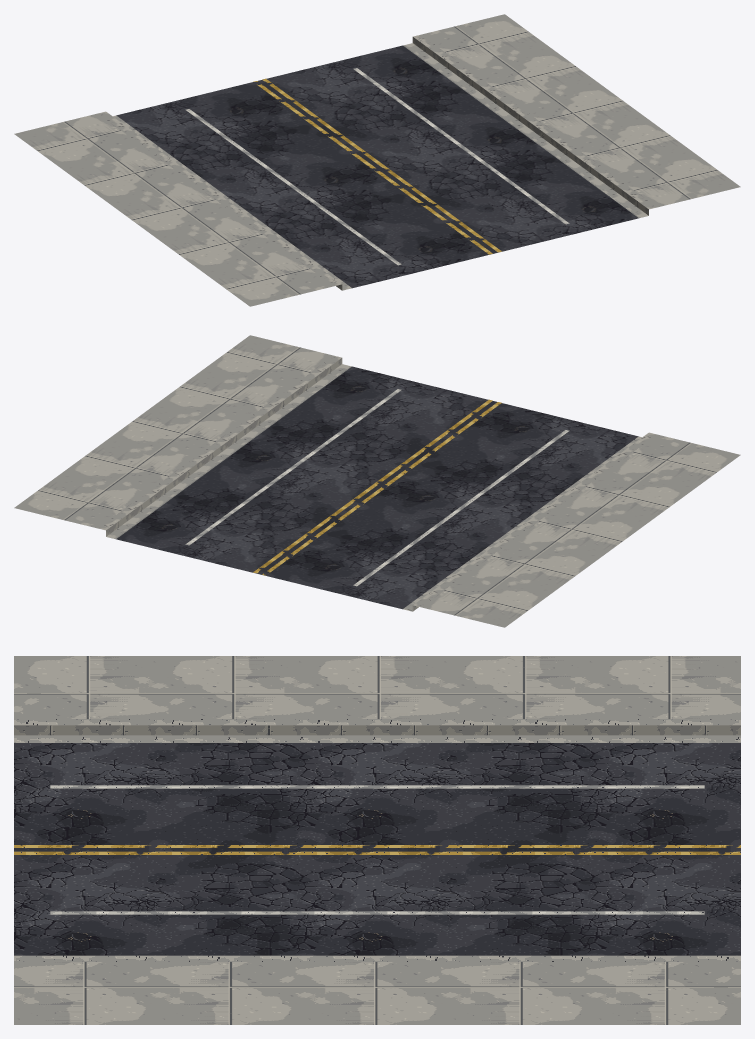
The model's file is RD_Street_Commercial_10m.obj.
3 renders of one model, top to bottom at view 1: azimuth 30°, elevation 25°; view 2: azimuth 150°, elevation 25°; view 3: azimuth 270°, elevation 25°, orthographic. The views are drawn at different scales.
Parts seen in each view (by area): view 1: RD_Street_Commercial_10m_Mesh_M_Road_AsphaltCracked, RD_Street_Commercial_10m_Mesh_M_Com_StorefrontConcrete, RD_Street_Commercial_10m_Mesh_M_Road_CurbConcrete, RD_Street_Commercial_10m_Mesh_M_Road_MarkingYellow, RD_Street_Commercial_10m_Mesh_M_Road_MarkingWhite; view 2: RD_Street_Commercial_10m_Mesh_M_Road_AsphaltCracked, RD_Street_Commercial_10m_Mesh_M_Com_StorefrontConcrete, RD_Street_Commercial_10m_Mesh_M_Road_CurbConcrete, RD_Street_Commercial_10m_Mesh_M_Road_MarkingWhite, RD_Street_Commercial_10m_Mesh_M_Road_MarkingYellow; view 3: RD_Street_Commercial_10m_Mesh_M_Road_AsphaltCracked, RD_Street_Commercial_10m_Mesh_M_Com_StorefrontConcrete, RD_Street_Commercial_10m_Mesh_M_Road_CurbConcrete, RD_Street_Commercial_10m_Mesh_M_Road_MarkingWhite, RD_Street_Commercial_10m_Mesh_M_Road_MarkingYellow.
Boxes of the visible parts, left/top/right/bottom form: RD_Street_Commercial_10m_Mesh_M_Road_AsphaltCracked: left=116, top=45, right=638, bottom=288; RD_Street_Commercial_10m_Mesh_M_Com_StorefrontConcrete: left=14, top=14, right=740, bottom=306; RD_Street_Commercial_10m_Mesh_M_Road_CurbConcrete: left=98, top=34, right=656, bottom=290; RD_Street_Commercial_10m_Mesh_M_Road_MarkingYellow: left=253, top=78, right=501, bottom=254; RD_Street_Commercial_10m_Mesh_M_Road_MarkingWhite: left=185, top=68, right=569, bottom=265; RD_Street_Commercial_10m_Mesh_M_Road_AsphaltCracked: left=116, top=366, right=638, bottom=609; RD_Street_Commercial_10m_Mesh_M_Com_StorefrontConcrete: left=14, top=335, right=740, bottom=627; RD_Street_Commercial_10m_Mesh_M_Road_CurbConcrete: left=98, top=355, right=656, bottom=611; RD_Street_Commercial_10m_Mesh_M_Road_MarkingWhite: left=185, top=389, right=569, bottom=586; RD_Street_Commercial_10m_Mesh_M_Road_MarkingYellow: left=253, top=399, right=501, bottom=575; RD_Street_Commercial_10m_Mesh_M_Road_AsphaltCracked: left=14, top=743, right=740, bottom=955; RD_Street_Commercial_10m_Mesh_M_Com_StorefrontConcrete: left=14, top=656, right=740, bottom=1024; RD_Street_Commercial_10m_Mesh_M_Road_CurbConcrete: left=14, top=719, right=740, bottom=961; RD_Street_Commercial_10m_Mesh_M_Road_MarkingWhite: left=50, top=785, right=704, bottom=914; RD_Street_Commercial_10m_Mesh_M_Road_MarkingYellow: left=14, top=845, right=740, bottom=854.
Bounding box in the file's own units: 12 × 0.15 × 10.
5 materials, 5 textured.
